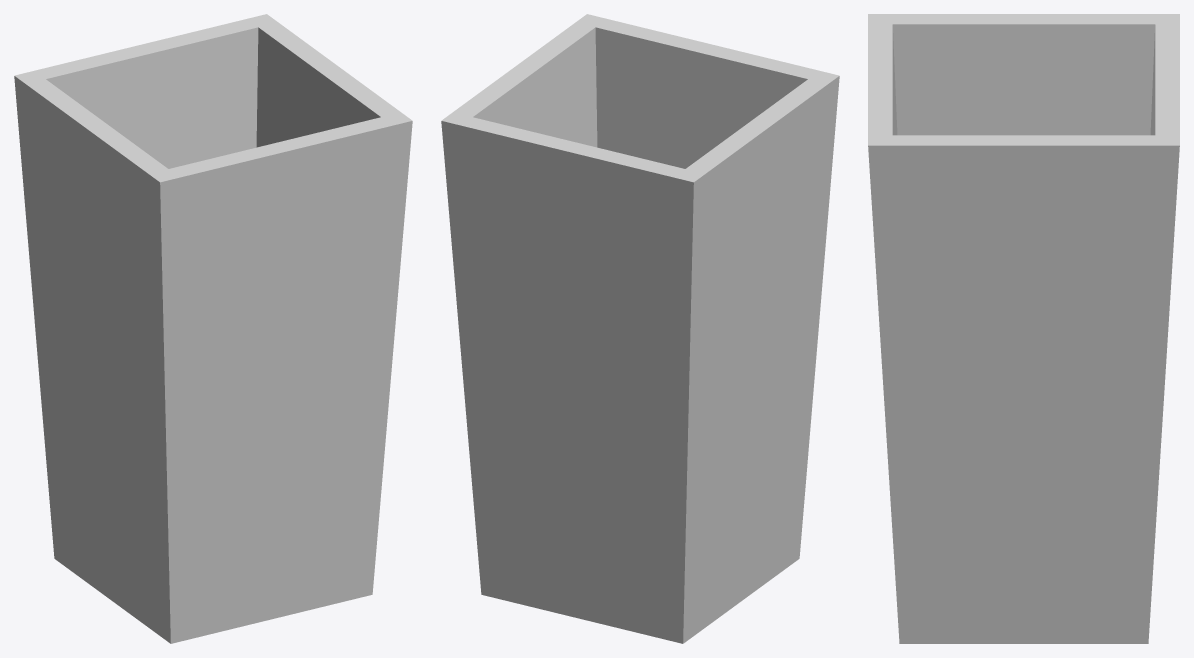
Rendered from Wadah.fbx.
The picture shows the model from 3 angles, left to right: view 1: azimuth 30°, elevation 25°; view 2: azimuth 150°, elevation 25°; view 3: azimuth 270°, elevation 25°; orthographic projection. The views are drawn at different scales.
Visible parts, largest first — view 1: Wadah; view 2: Wadah; view 3: Wadah.
Part boxes in pixels (left/top/right/bottom): Wadah: left=14, top=14, right=412, bottom=643; Wadah: left=441, top=14, right=839, bottom=643; Wadah: left=868, top=14, right=1179, bottom=643.
Bounding box in the file's own units: 16.58 × 30.01 × 16.58.
